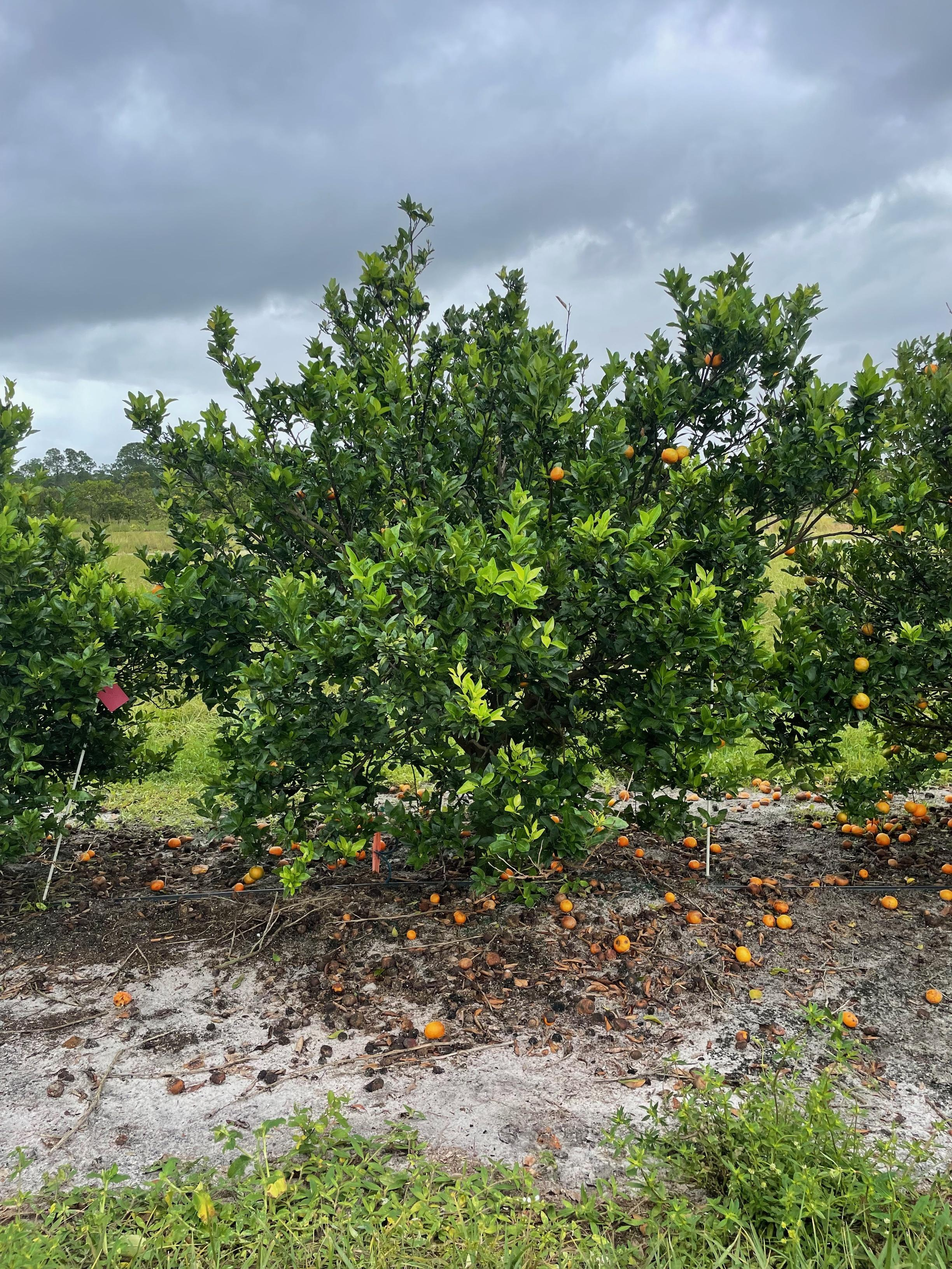fruit_on_ground: (702, 348, 726, 370), (850, 690, 872, 711), (921, 358, 943, 378), (858, 619, 878, 639), (852, 654, 872, 674), (872, 798, 891, 817), (660, 446, 679, 465), (672, 444, 692, 462), (247, 863, 266, 881), (150, 582, 168, 600), (548, 465, 566, 483), (322, 485, 340, 502), (268, 758, 285, 775), (619, 443, 636, 460), (514, 671, 531, 688), (910, 802, 928, 818), (835, 808, 850, 825), (782, 542, 798, 557), (914, 696, 930, 711), (932, 750, 948, 765), (802, 572, 818, 587), (903, 800, 918, 814), (888, 742, 903, 755)
fruit_on_tree: (423, 1020, 445, 1041), (611, 933, 632, 953), (576, 996, 596, 1016), (924, 986, 944, 1005), (840, 1009, 859, 1029), (112, 989, 133, 1006), (734, 944, 752, 963), (685, 908, 704, 925), (559, 914, 578, 930), (556, 896, 574, 912), (776, 913, 794, 929), (880, 895, 899, 910), (91, 874, 108, 890), (773, 899, 791, 914), (747, 882, 764, 897), (240, 870, 256, 885), (549, 857, 565, 872), (889, 818, 905, 833), (452, 909, 468, 924), (875, 831, 891, 846), (480, 898, 497, 912), (499, 866, 515, 880), (682, 834, 698, 848), (148, 878, 165, 891), (938, 887, 952, 902), (761, 912, 776, 926), (756, 779, 772, 792), (850, 823, 866, 836), (549, 811, 563, 825), (588, 940, 602, 954), (428, 891, 442, 905), (663, 890, 677, 904), (748, 873, 763, 886), (709, 841, 724, 854), (687, 857, 703, 869), (898, 831, 912, 844), (939, 860, 952, 874), (405, 926, 418, 940), (225, 832, 240, 844), (684, 790, 699, 802), (414, 785, 427, 798), (856, 866, 869, 879), (812, 792, 826, 804), (269, 844, 284, 855), (231, 882, 246, 893), (167, 836, 182, 847), (864, 822, 879, 833), (399, 783, 412, 795), (808, 878, 821, 890), (618, 788, 631, 800), (633, 846, 646, 858), (617, 835, 630, 847), (276, 857, 290, 868), (866, 815, 880, 826), (180, 833, 194, 844), (839, 823, 853, 834), (796, 790, 810, 801), (880, 789, 892, 801), (811, 817, 823, 829), (133, 910, 146, 921), (749, 776, 762, 787), (354, 848, 367, 859), (837, 875, 850, 886), (702, 821, 714, 832), (45, 831, 57, 842), (377, 839, 388, 851), (149, 856, 161, 867), (760, 795, 772, 806), (723, 789, 735, 800), (219, 841, 231, 852), (941, 792, 952, 804), (771, 790, 783, 801), (749, 799, 761, 810), (79, 851, 91, 862), (942, 816, 951, 830), (64, 820, 75, 831), (592, 823, 604, 833), (738, 789, 750, 799), (840, 838, 852, 848), (326, 860, 337, 870), (341, 911, 352, 921), (336, 856, 347, 866), (289, 840, 300, 850), (606, 797, 616, 807), (86, 849, 96, 858)
